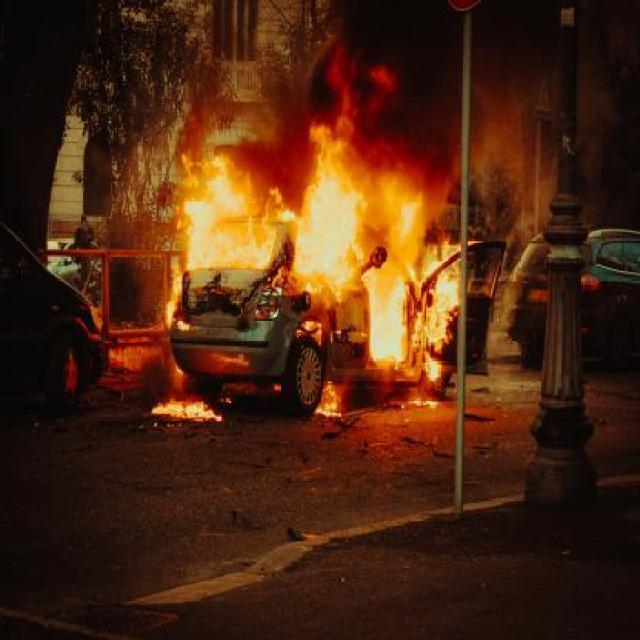Fire: (158, 53, 477, 418)
Smoke: (265, 0, 547, 267)
